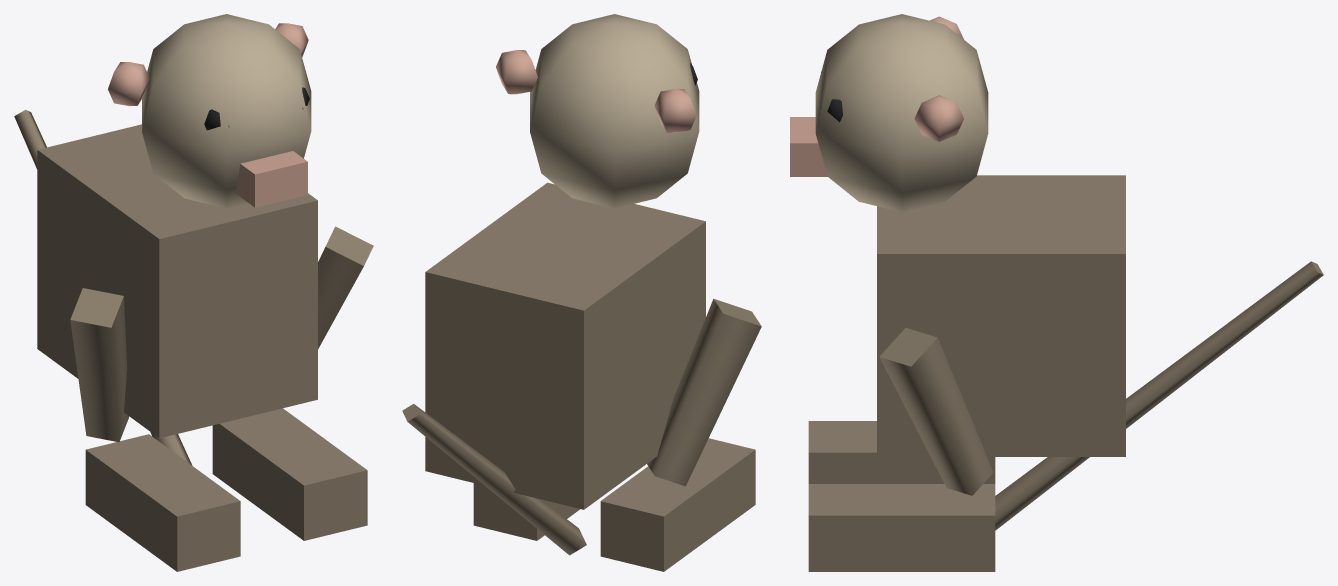
Rendered from macaque.glb.
The picture shows the model from 3 angles, left to right: view 1: azimuth 30°, elevation 25°; view 2: azimuth 150°, elevation 25°; view 3: azimuth 270°, elevation 25°; orthographic projection.
Parts seen in each view (by area): view 1: Mesh_Body, Mesh_Head, Mesh_LegLeft, Mesh_LegRight, Mesh_ArmLeft, Mesh_ArmRight, Mesh_Muzzle, Mesh_EarLeft, Mesh_Tail, Mesh_EarRight; view 2: Mesh_Body, Mesh_Head, Mesh_LegLeft, Mesh_ArmLeft, Mesh_Tail, Mesh_LegRight, Mesh_EarRight, Mesh_EarLeft; view 3: Mesh_Body, Mesh_Head, Mesh_LegRight, Mesh_ArmRight, Mesh_Tail, Mesh_LegLeft, Mesh_Muzzle, Mesh_EarRight.
Boxes of the visible parts, left/top/right/bottom form: Mesh_Body: left=37, top=124, right=317, bottom=438; Mesh_Head: left=142, top=14, right=311, bottom=208; Mesh_LegLeft: left=85, top=434, right=240, bottom=571; Mesh_LegRight: left=212, top=408, right=367, bottom=540; Mesh_ArmLeft: left=70, top=288, right=129, bottom=442; Mesh_ArmRight: left=318, top=226, right=373, bottom=348; Mesh_Muzzle: left=234, top=151, right=307, bottom=207; Mesh_EarLeft: left=108, top=62, right=149, bottom=106; Mesh_Tail: left=14, top=110, right=192, bottom=465; Mesh_EarRight: left=275, top=23, right=308, bottom=57; Mesh_Body: left=425, top=182, right=705, bottom=509; Mesh_Head: left=530, top=14, right=699, bottom=208; Mesh_LegLeft: left=600, top=438, right=755, bottom=571; Mesh_ArmLeft: left=647, top=298, right=761, bottom=486; Mesh_Tail: left=402, top=404, right=586, bottom=555; Mesh_LegRight: left=473, top=483, right=580, bottom=540; Mesh_EarRight: left=496, top=50, right=537, bottom=94; Mesh_EarLeft: left=654, top=88, right=696, bottom=132; Mesh_Body: left=877, top=175, right=1125, bottom=456; Mesh_Head: left=815, top=14, right=988, bottom=212; Mesh_LegRight: left=808, top=484, right=995, bottom=571; Mesh_ArmRight: left=879, top=328, right=993, bottom=495; Mesh_Tail: left=995, top=261, right=1323, bottom=530; Mesh_LegLeft: left=808, top=421, right=995, bottom=483; Mesh_Muzzle: left=790, top=117, right=827, bottom=176; Mesh_EarRight: left=914, top=95, right=963, bottom=141.
Size of the model in its own units: 0.2871 by 0.4517 by 0.4292.
